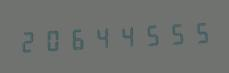five: (137, 18, 160, 50), (161, 17, 184, 49), (185, 16, 208, 48)
four: (89, 21, 112, 53), (113, 20, 136, 51)
six: (65, 22, 88, 54)
two: (17, 25, 40, 56)
zero: (41, 23, 64, 55)
